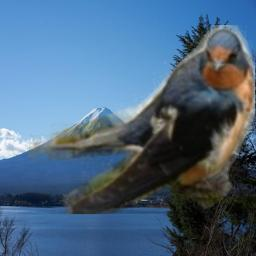Swallow: (29, 25, 255, 214)
